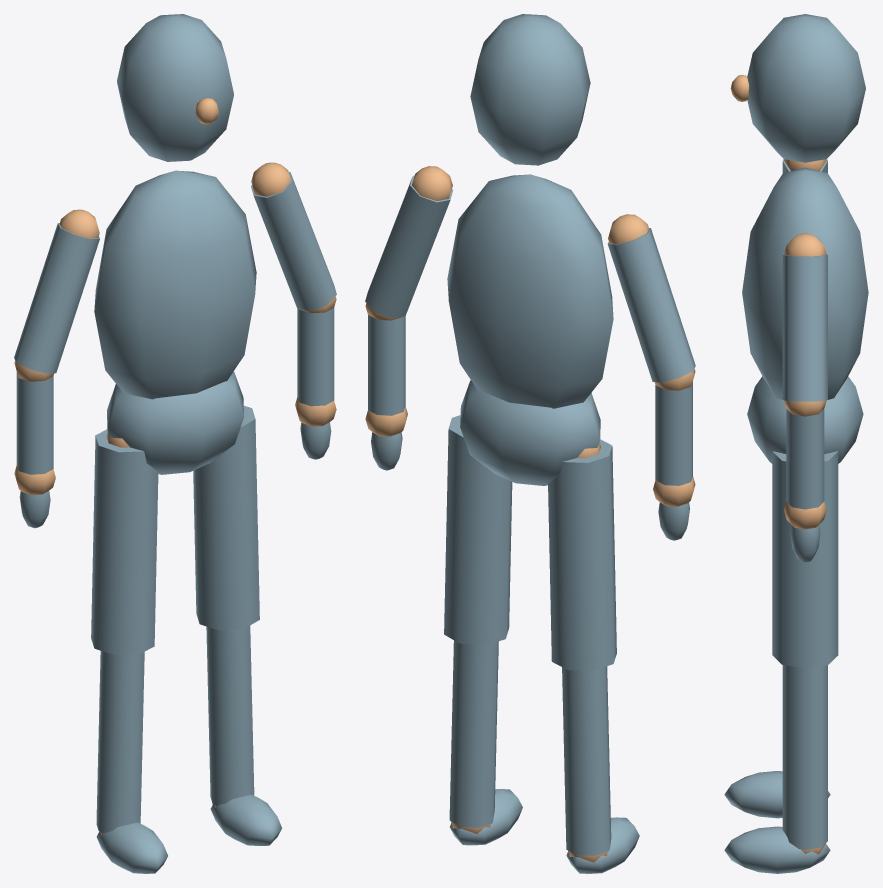
File: pose-neutral-3d.glb
The picture shows the model from 3 angles, left to right: view 1: azimuth 30°, elevation 25°; view 2: azimuth 150°, elevation 25°; view 3: azimuth 270°, elevation 25°; orthographic projection. The views are drawn at different scales.
Parts seen in each view (by area): view 1: rib-cage, left-thigh, head, right-thigh, pelvis, left-shin, right-shin, left-upper-arm, right-upper-arm, left-forearm, right-forearm, foot-la (+7 smaller); view 2: rib-cage, head, left-thigh, right-thigh, pelvis, left-shin, right-shin, left-upper-arm, right-upper-arm, left-forearm, right-forearm, foot-la (+7 smaller); view 3: rib-cage, head, right-thigh, right-shin, right-upper-arm, pelvis, right-forearm, foot-ra, foot-la, hand-rw, joint-rw, joint-rs (+3 smaller).
Part boxes in pixels (x1,y1,x2,y2): rib-cage: [94, 170, 256, 399]; left-thigh: [91, 429, 158, 655]; head: [117, 14, 233, 161]; right-thigh: [193, 405, 259, 630]; pelvis: [107, 371, 243, 474]; left-shin: [96, 651, 144, 833]; right-shin: [206, 625, 254, 805]; left-upper-arm: [14, 223, 99, 373]; right-upper-arm: [251, 172, 336, 310]; left-forearm: [16, 372, 53, 474]; right-forearm: [297, 308, 334, 406]; foot-la: [96, 822, 167, 873]; rib-cage: [447, 174, 613, 408]; head: [470, 14, 590, 165]; left-thigh: [548, 439, 616, 670]; right-thigh: [444, 415, 512, 645]; pelvis: [460, 380, 600, 485]; left-shin: [562, 666, 611, 855]; right-shin: [449, 640, 498, 827]; left-upper-arm: [607, 228, 695, 382]; right-upper-arm: [365, 175, 453, 318]; left-forearm: [655, 381, 692, 485]; right-forearm: [368, 315, 405, 415]; foot-la: [566, 817, 639, 873]; rib-cage: [742, 167, 868, 399]; head: [747, 14, 865, 162]; right-thigh: [772, 451, 838, 668]; right-shin: [782, 665, 827, 849]; right-upper-arm: [782, 254, 827, 401]; pelvis: [747, 376, 863, 463]; right-forearm: [786, 409, 824, 509]; foot-ra: [724, 826, 830, 873]; foot-la: [724, 771, 830, 818]; hand-rw: [790, 525, 820, 562]; joint-rw: [784, 502, 826, 529]; joint-rs: [784, 233, 826, 256].
Size of the model in its own units: 0.725 by 1.8 by 0.285.
